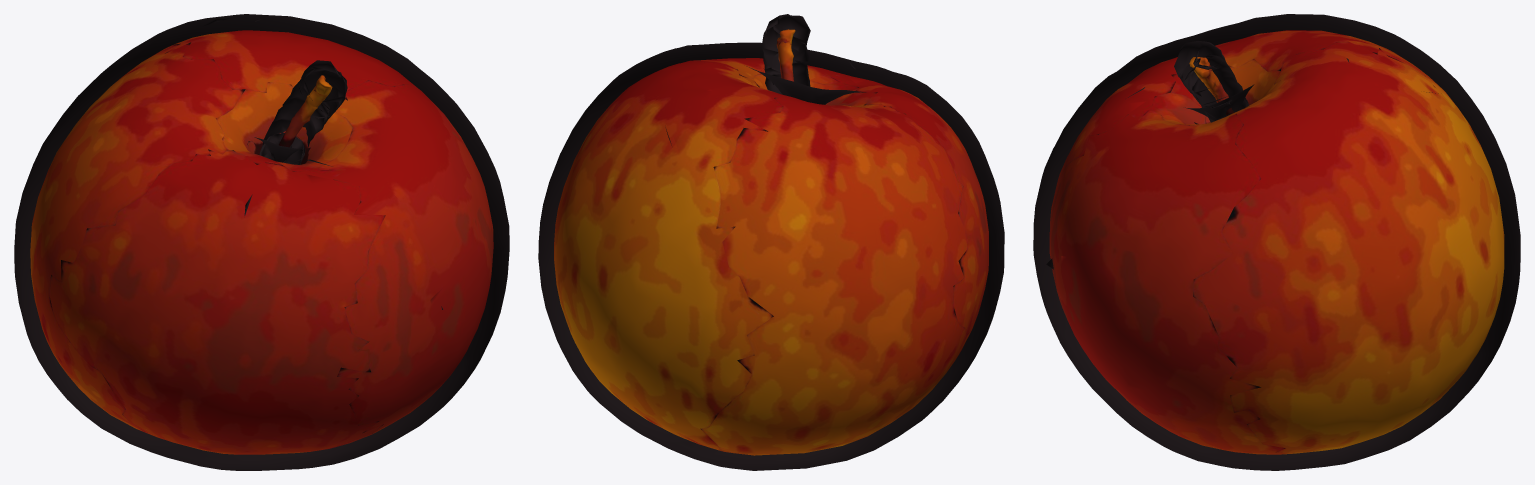
File: SM_Int_Apple.fbx
3 views of the same model, side by side, from view 1: azimuth 30°, elevation 25°; view 2: azimuth 150°, elevation 25°; view 3: azimuth 270°, elevation 25° (orthographic). The views are drawn at different scales.
Visible parts, largest first — view 1: SM_Int_Apple; view 2: SM_Int_Apple; view 3: SM_Int_Apple.
Boxes of the visible parts, bbox=[...] form: SM_Int_Apple: bbox=[14, 14, 509, 470]; SM_Int_Apple: bbox=[538, 14, 1004, 470]; SM_Int_Apple: bbox=[1033, 14, 1520, 470].
Size of the model in its own units: 0.1044 by 0.092 by 0.1027.
